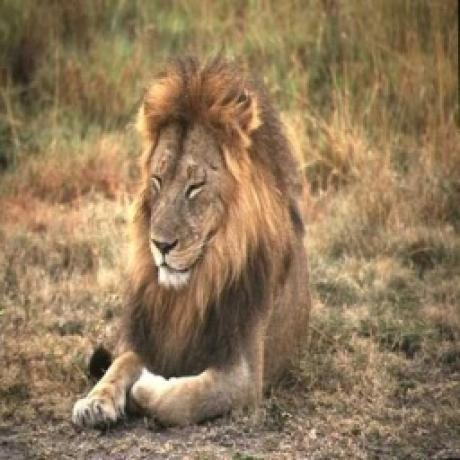Lion: (66, 48, 320, 438)
